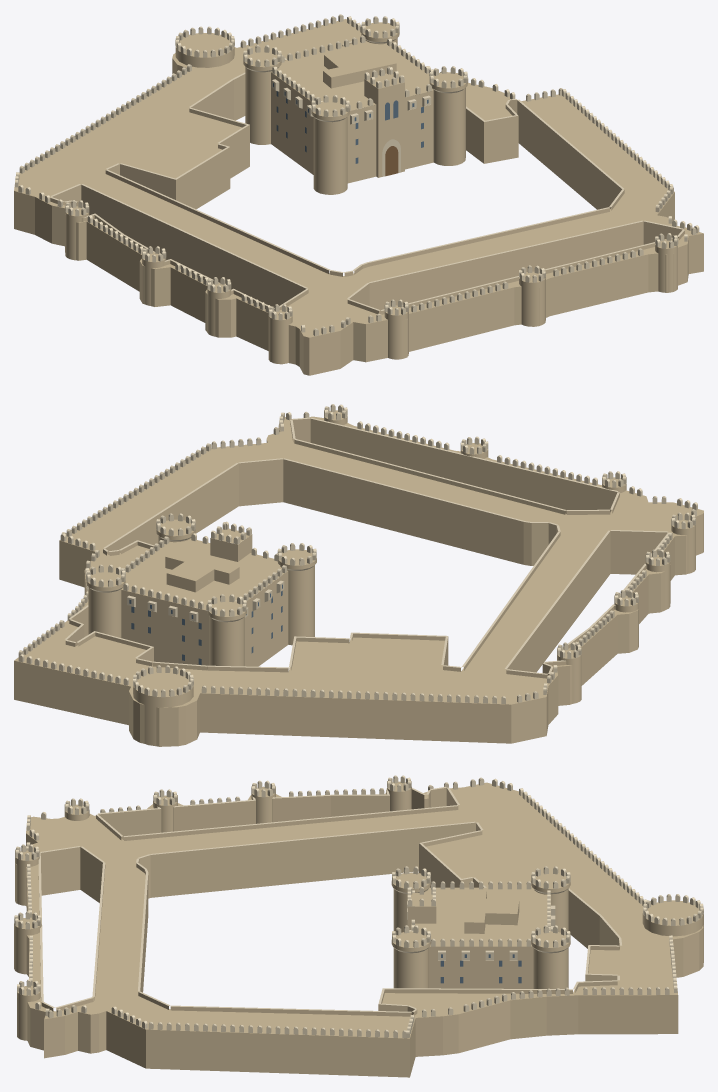
File: alexandria-qaitbay-citadel.detail.glb
3 renders of one model, top to bottom at view 1: azimuth 30°, elevation 25°; view 2: azimuth 150°, elevation 25°; view 3: azimuth 270°, elevation 25°, orthographic. The views are drawn at different scales.
Parts seen in each view (by area): view 1: Citadel of Qaitbay; view 2: Citadel of Qaitbay; view 3: Citadel of Qaitbay.
Boxes of the visible parts, x1=… form: Citadel of Qaitbay: x1=14, y1=14, x2=703, y2=375; Citadel of Qaitbay: x1=14, y1=404, x2=703, y2=746; Citadel of Qaitbay: x1=14, y1=775, x2=703, y2=1077.
Size of the model in its own units: 127 by 22.48 by 144.
